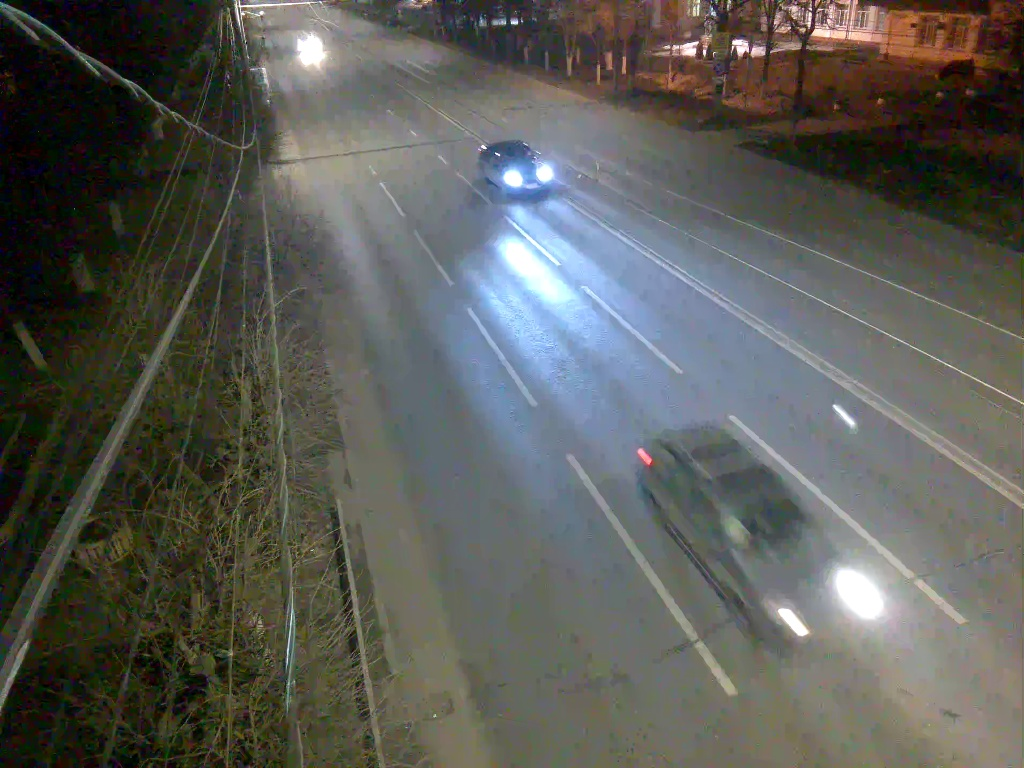car: (633, 415, 900, 667), (474, 137, 560, 208)
